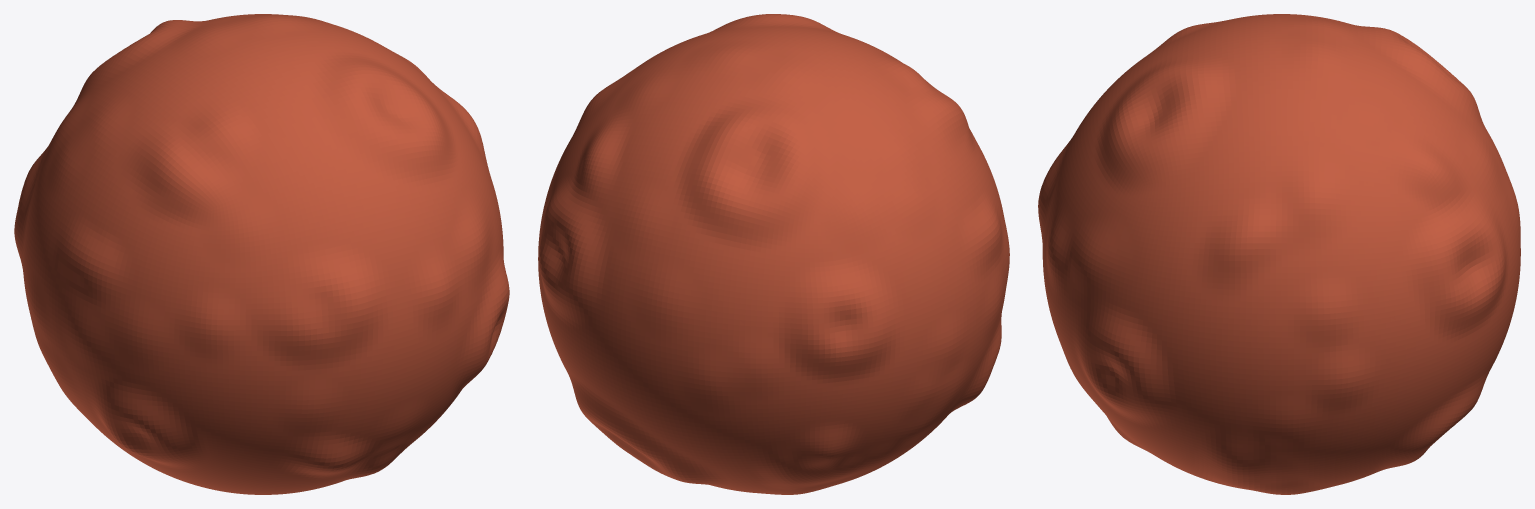
File: Planet2.glb
3 renders of one model, left to right at view 1: azimuth 30°, elevation 25°; view 2: azimuth 150°, elevation 25°; view 3: azimuth 270°, elevation 25°, orthographic. The views are drawn at different scales.
Parts seen in each view (by area): view 1: Quad Sphere.001; view 2: Quad Sphere.001; view 3: Quad Sphere.001.
Part boxes in pixels (x1,y1,x2,y2): Quad Sphere.001: (14, 14, 509, 494); Quad Sphere.001: (538, 14, 1009, 494); Quad Sphere.001: (1038, 14, 1520, 494).
Bounding box in the file's own units: 2.57 × 2.57 × 2.59.
